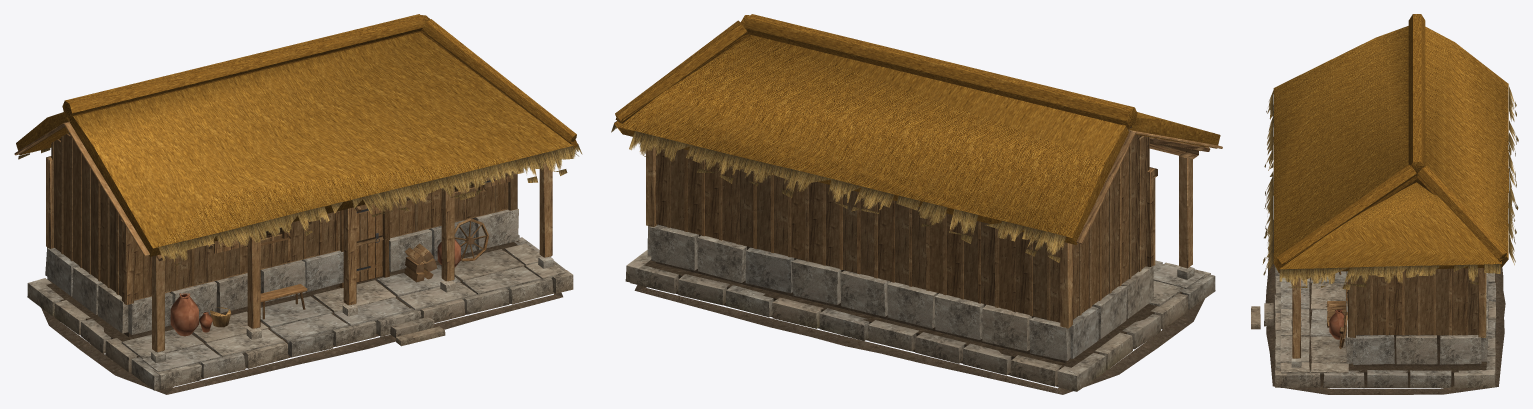
Rendered from village-house-3-lite-v3b.glb.
3 renders of one model, left to right at view 1: azimuth 30°, elevation 25°; view 2: azimuth 150°, elevation 25°; view 3: azimuth 270°, elevation 25°, orthographic. The views are drawn at different scales.
Parts seen in each view (by area): view 1: village-house-3; view 2: village-house-3; view 3: village-house-3.
Boxes of the visible parts, x1=… form: village-house-3: x1=14, y1=14, x2=582, y2=394; village-house-3: x1=611, y1=14, x2=1222, y2=394; village-house-3: x1=1251, y1=14, x2=1518, y2=394.
Size of the model in its own units: 11.11 by 5.59 by 6.78.
8 materials, 7 textured.
